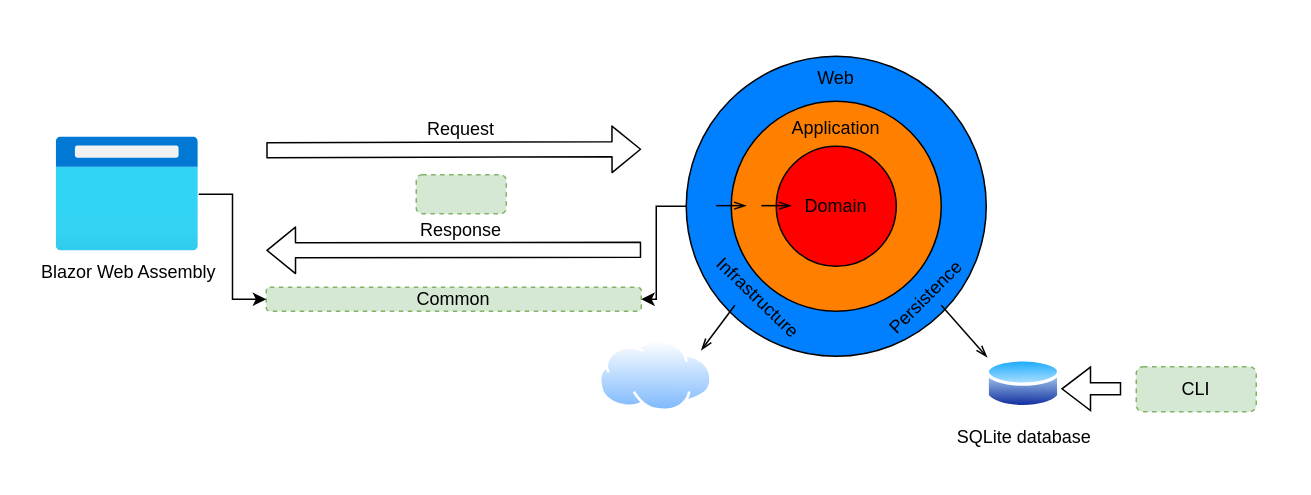
Image size: 1311x495. Some labels were removed from this diagram. Here are the shapes that lost their labels. From the top down, the centre of each, then its label:
At point 460,193: "DTOs".
At point 655,375: "External APIs".
